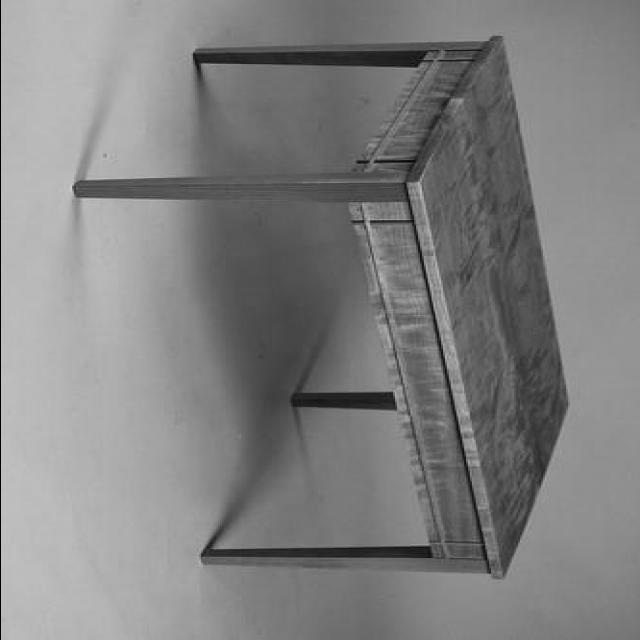table: (68, 35, 570, 580)
